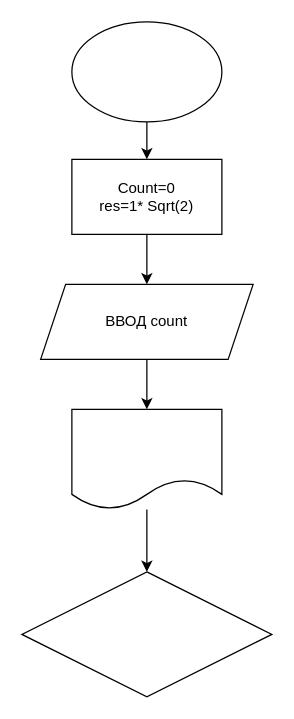
Some shapes in this 294 by 719 pixel diagram are drawn without their labels. The centre of each missing label's shape, as x and y in pixels:
"Start" belongs at [146,71].
"ВЫВОД RES" belongs at [146,458].
